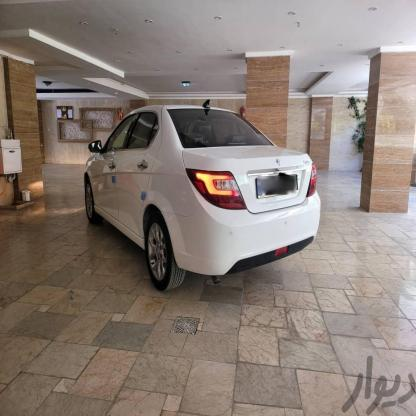Car: (81, 99, 324, 290)
